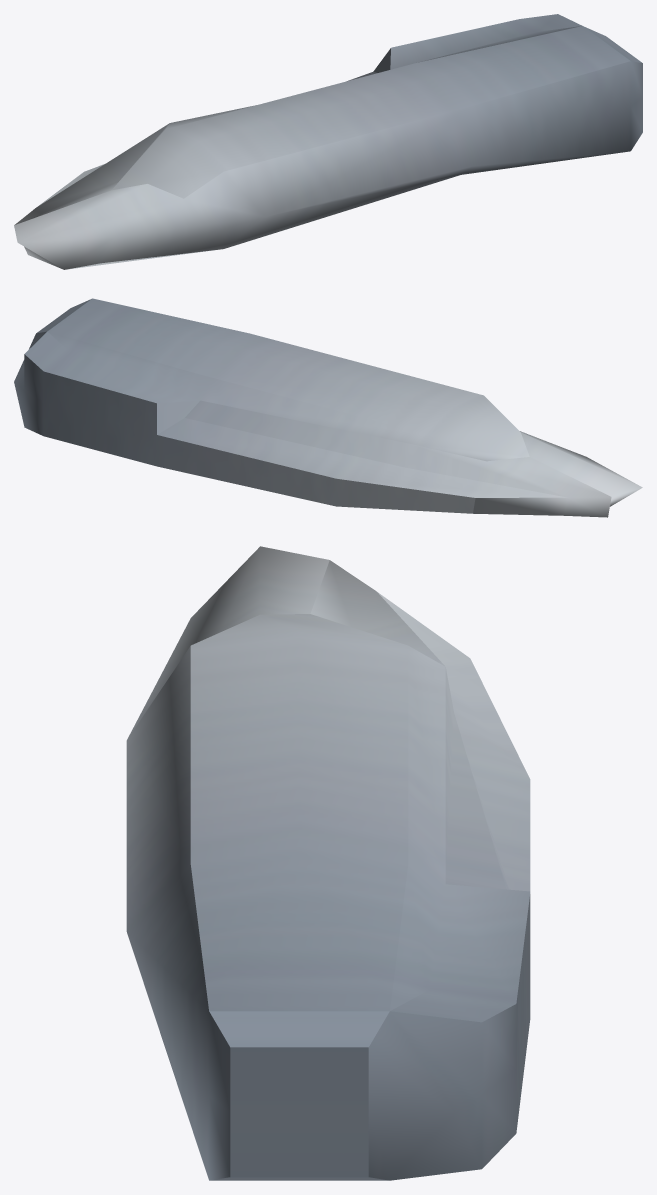
The model's file is Arch3.fbx.
3 views of the same model, one above another, from view 1: azimuth 30°, elevation 25°; view 2: azimuth 150°, elevation 25°; view 3: azimuth 270°, elevation 25° (orthographic). The views are drawn at different scales.
Visible parts, largest first — view 1: polySurface30; view 2: polySurface30; view 3: polySurface30.
Part boxes in pixels (left/top/right/bottom): polySurface30: left=14, top=14, right=642, bottom=269; polySurface30: left=14, top=298, right=642, bottom=517; polySurface30: left=126, top=546, right=530, bottom=1180.
Bounding box in the file's own units: 9.28 × 1.42 × 2.8.
